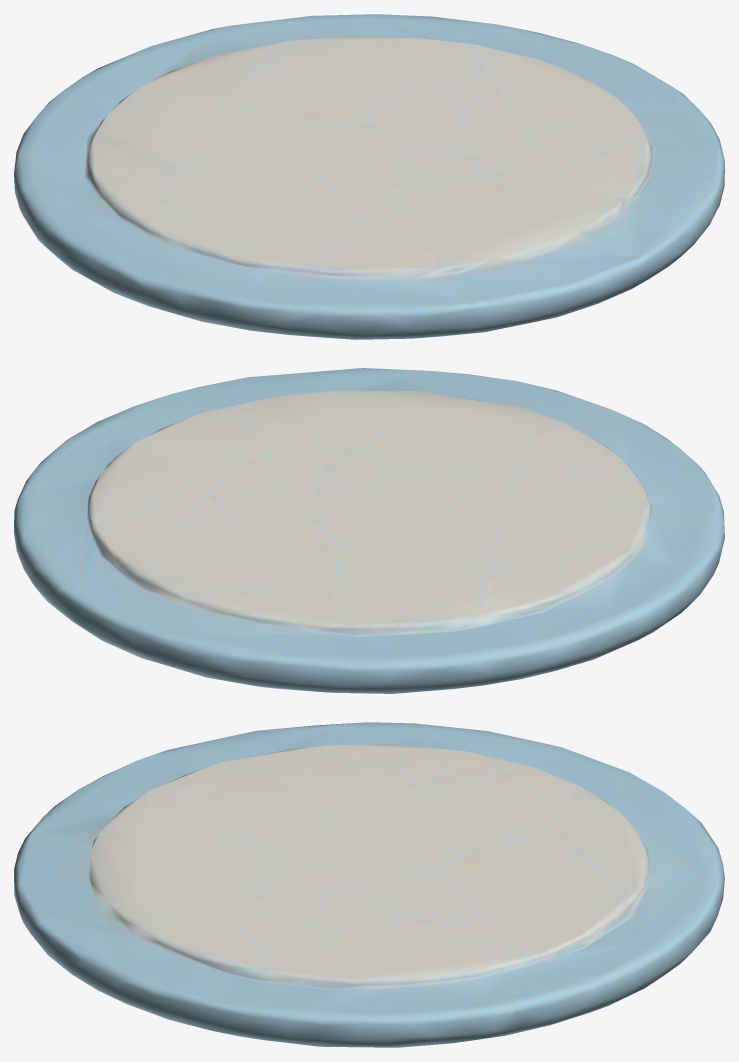
Rendered from bedroom_rug.glb.
3 views of the same model, one above another, from view 1: azimuth 30°, elevation 25°; view 2: azimuth 150°, elevation 25°; view 3: azimuth 270°, elevation 25° (orthographic).
Parts seen in each view (by area): view 1: tripo_node_3939474b-f510-4e3d-abc1-ae6de10ef7b7; view 2: tripo_node_3939474b-f510-4e3d-abc1-ae6de10ef7b7; view 3: tripo_node_3939474b-f510-4e3d-abc1-ae6de10ef7b7.
Boxes of the visible parts, bbox=[...] form: tripo_node_3939474b-f510-4e3d-abc1-ae6de10ef7b7: bbox=[14, 14, 724, 339]; tripo_node_3939474b-f510-4e3d-abc1-ae6de10ef7b7: bbox=[14, 368, 724, 693]; tripo_node_3939474b-f510-4e3d-abc1-ae6de10ef7b7: bbox=[14, 722, 724, 1047].
Bounding box in the file's own units: 1.6 × 0.1332 × 1.6.
1 material, 1 textured.
